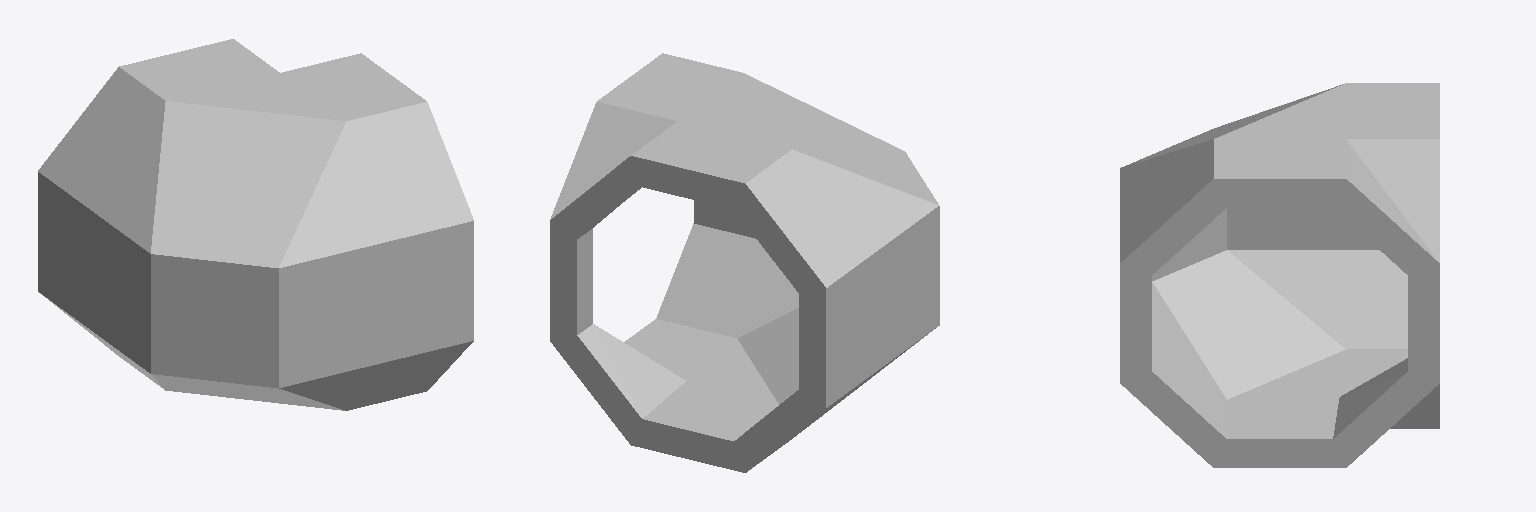
The model's file is corner_horizontal.obj.
3 renders of one model, left to right at view 1: azimuth 30°, elevation 25°; view 2: azimuth 150°, elevation 25°; view 3: azimuth 270°, elevation 25°, orthographic.
Parts seen in each view (by area): view 1: Cylinder.003_Cylinder.007; view 2: Cylinder.003_Cylinder.007; view 3: Cylinder.003_Cylinder.007.
Part boxes in pixels (left/top/right/bottom): Cylinder.003_Cylinder.007: left=38, top=39, right=473, bottom=410; Cylinder.003_Cylinder.007: left=550, top=53, right=939, bottom=472; Cylinder.003_Cylinder.007: left=1120, top=83, right=1439, bottom=467.
Size of the model in its own units: 1 by 1 by 1.